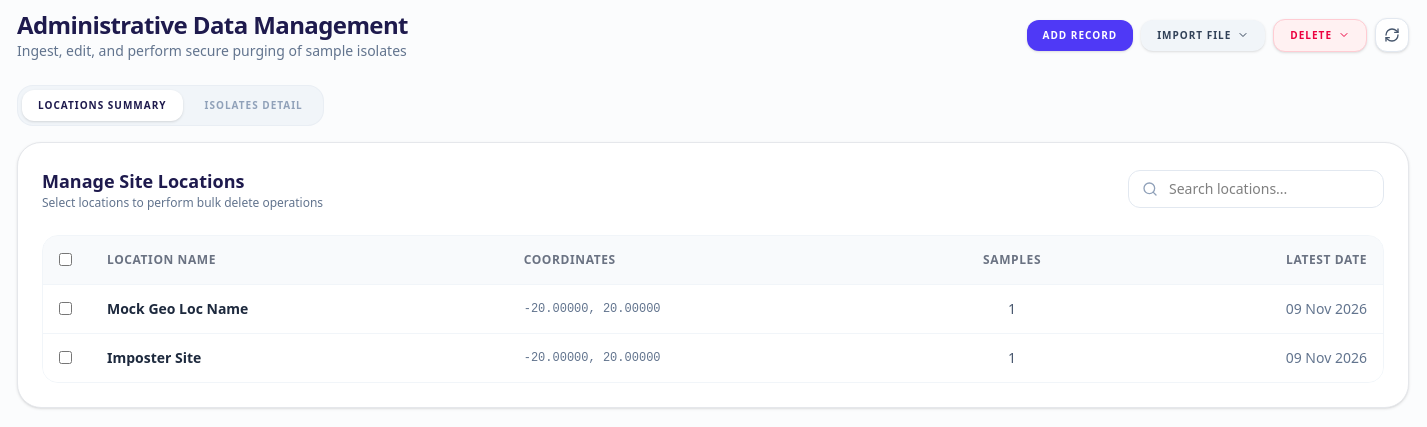
Test case: Date Management Page Tests › Search and Filters location successfully by search
In the field with placeholder "Search locations...": (1256, 189) [1128,170,1384,208], type "Mock"
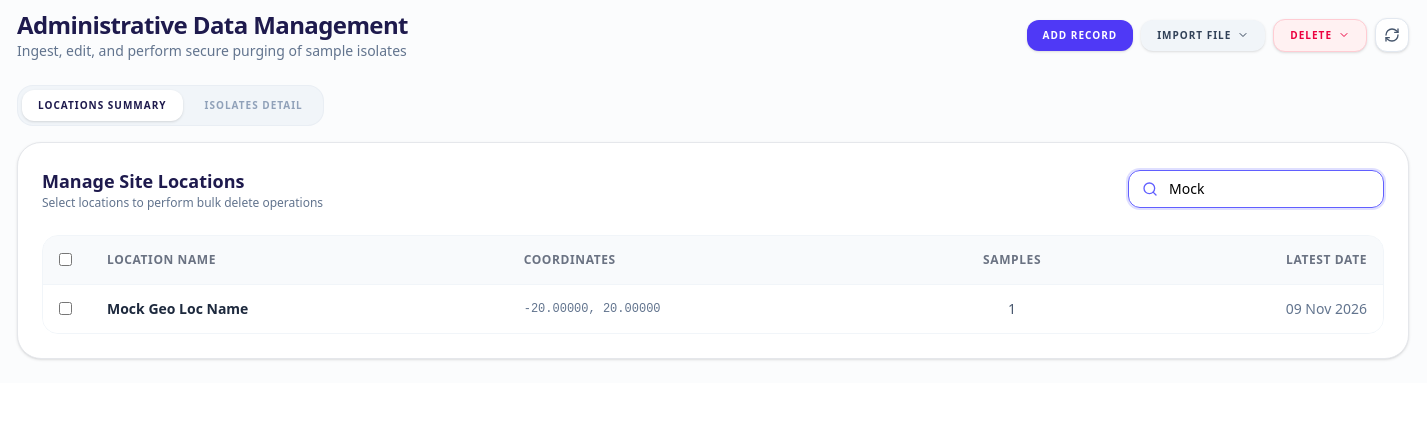
Expected: the text "Mock Geo Loc Name" is shown, [91,284,508,333]
Expected: the text "Imposter Site" is gone
